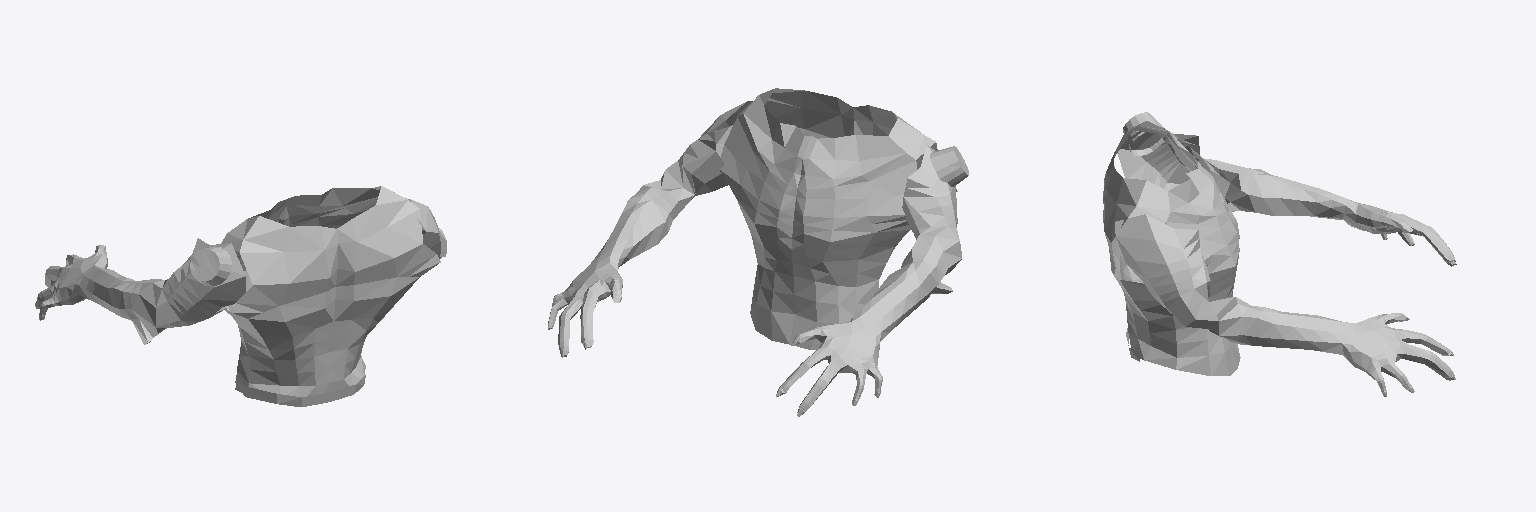
Rendered from OrcFPS.obj.
The picture shows the model from 3 angles: view 1: azimuth 30°, elevation 25°; view 2: azimuth 150°, elevation 25°; view 3: azimuth 270°, elevation 25°; orthographic projection.
Parts seen in each view (by area): view 1: Object001, gogles; view 2: Object001, gogles; view 3: gogles, Object001.
Boxes of the visible parts, x1,y1,x2,y2 form: Object001: [221, 186, 440, 406]; gogles: [35, 192, 446, 344]; Object001: [720, 88, 957, 349]; gogles: [548, 101, 968, 416]; gogles: [1115, 112, 1456, 396]; Object001: [1103, 121, 1240, 375].
Size of the model in its own units: 74.93 by 45.51 by 69.81.